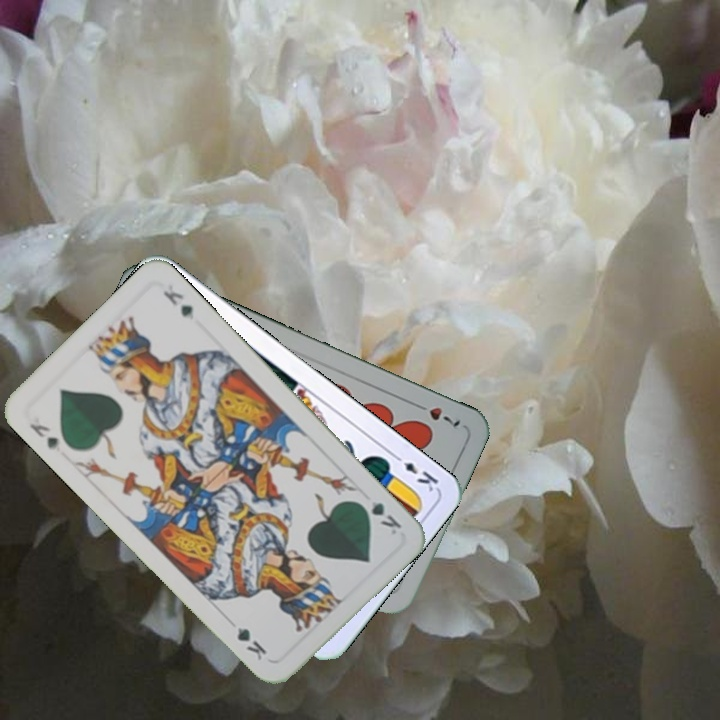EK: (388, 449, 442, 495)
GK: (353, 496, 405, 538), (25, 419, 62, 453)
H7: (409, 398, 463, 433)
